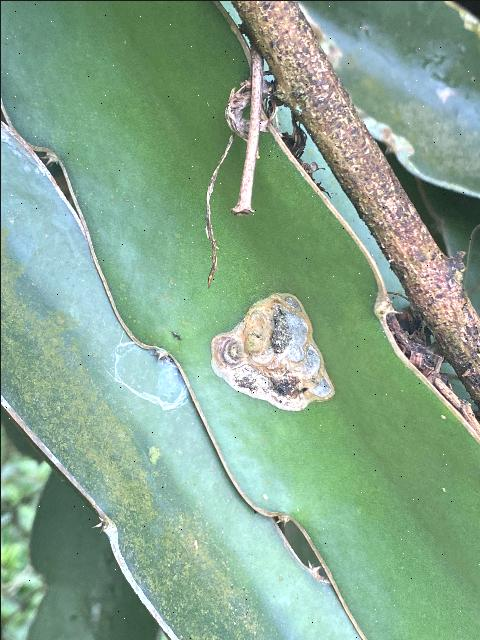stemcanker: (209, 282, 344, 420)
